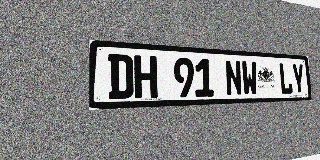1: (194, 58, 214, 97)
9: (174, 57, 195, 97)
D: (108, 54, 134, 99)
H: (134, 55, 158, 99)
L: (278, 63, 293, 95)
N: (225, 60, 242, 96)
W: (241, 61, 258, 96)
Y: (291, 63, 305, 94)
